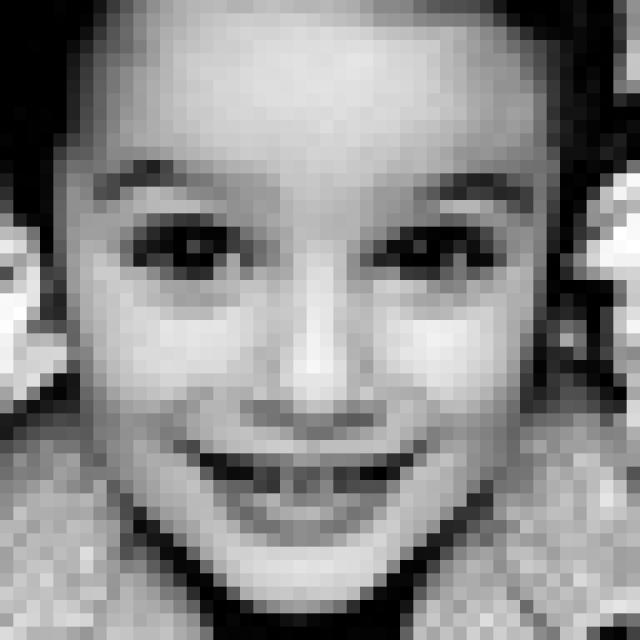happy: (93, 159, 545, 550)
